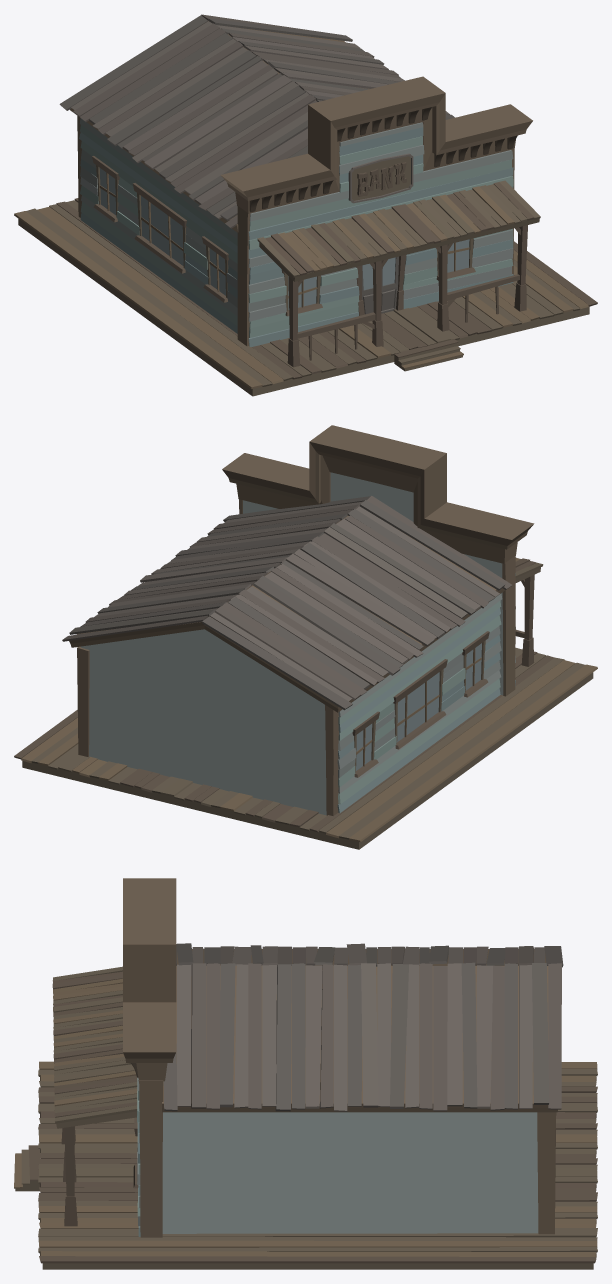
File: bank_v02 (1).fbx
The picture shows the model from 3 angles, top to bottom: view 1: azimuth 30°, elevation 25°; view 2: azimuth 150°, elevation 25°; view 3: azimuth 270°, elevation 25°; orthographic projection. The views are drawn at different scales.
Parts seen in each view (by area): view 1: tetto, pavimento, porticciolo, tetto_davanti, muro_esterno, muro_sopra, muro_sotto, finestra_04, scritta, finestra_03, finestra_05, finestra_02 (+6 smaller); view 2: tetto, muro_esterno, pavimento, tetto_davanti, finestra_04, MSH_banca_muro_interno, muro_sopra, porticciolo, finestra_03, finestra_05, cornice_sotto, cornice_sopra; view 3: tetto, muro_esterno, pavimento, porticciolo, tetto_davanti, MSH_banca_muro_interno, cornice_sotto1, cornice_sopra1.
Boxes of the visible parts, x1,y1,x2,y2 form: tetto: [59, 14, 454, 232]; pavimento: [14, 198, 597, 396]; porticciolo: [257, 180, 540, 367]; tetto_davanti: [221, 76, 532, 213]; muro_esterno: [79, 118, 237, 333]; muro_sopra: [248, 122, 513, 267]; muro_sotto: [248, 228, 513, 346]; finestra_04: [132, 183, 186, 273]; scritta: [348, 153, 413, 203]; finestra_03: [202, 236, 228, 302]; finestra_05: [92, 156, 119, 222]; finestra_02: [436, 238, 475, 280]; tetto: [62, 496, 512, 712]; muro_esterno: [81, 593, 502, 815]; pavimento: [14, 647, 597, 849]; tetto_davanti: [222, 425, 534, 563]; finestra_04: [393, 659, 447, 749]; MSH_banca_muro_interno: [77, 646, 338, 815]; muro_sopra: [243, 472, 515, 621]; porticciolo: [515, 557, 543, 666]; finestra_03: [462, 631, 489, 697]; finestra_05: [352, 711, 379, 777]; cornice_sotto: [503, 613, 515, 696]; cornice_sopra: [502, 555, 515, 620]; tetto: [162, 943, 563, 1112]; muro_esterno: [162, 1112, 538, 1233]; pavimento: [14, 1061, 597, 1269]; porticciolo: [52, 966, 137, 1226]; tetto_davanti: [123, 878, 176, 1081]; MSH_banca_muro_interno: [537, 1112, 556, 1234]; cornice_sotto1: [140, 1148, 162, 1237]; cornice_sopra1: [139, 1080, 163, 1148].
Size of the model in its own units: 220 by 136 by 273.
